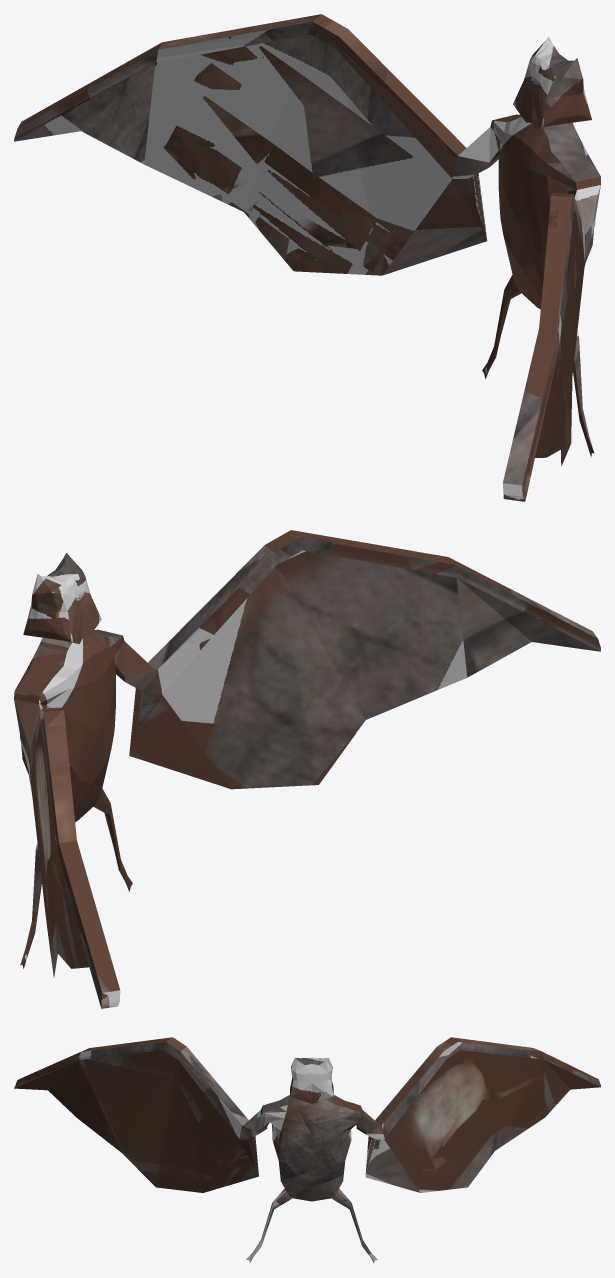
File: Enemigo111.obj
The picture shows the model from 3 angles, top to bottom: view 1: azimuth 30°, elevation 25°; view 2: azimuth 150°, elevation 25°; view 3: azimuth 270°, elevation 25°; orthographic projection. The views are drawn at different scales.
Parts seen in each view (by area): view 1: Plano; view 2: Plano; view 3: Plano.
Part boxes in pixels (x1=…): Plano: x1=14, y1=14, x2=600, y2=501; Plano: x1=14, y1=530, x2=600, y2=1008; Plano: x1=14, y1=1037, x2=600, y2=1262.
Size of the model in its own units: 0.6986 by 0.7578 by 1.89.
Materials: 1 (1 with a texture image).
